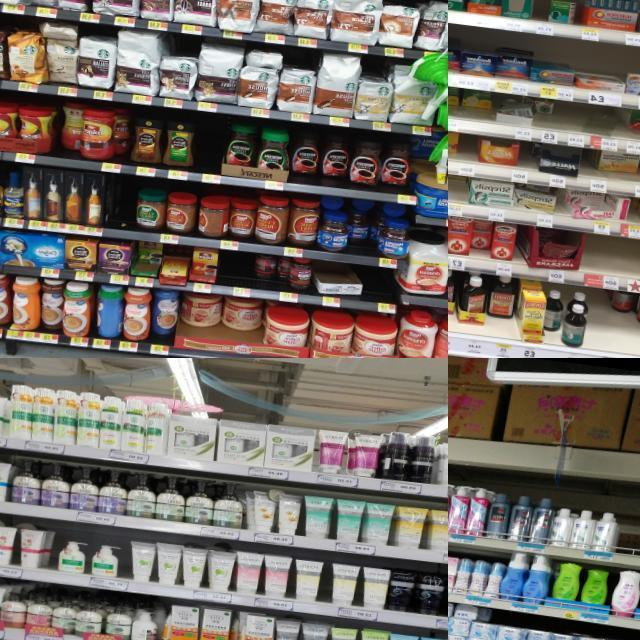Imprecise: (174, 292, 264, 354), (483, 272, 522, 341), (609, 293, 640, 358), (47, 100, 81, 154), (346, 206, 379, 256), (450, 90, 492, 124), (254, 256, 284, 288), (470, 217, 490, 261), (530, 94, 556, 126)
